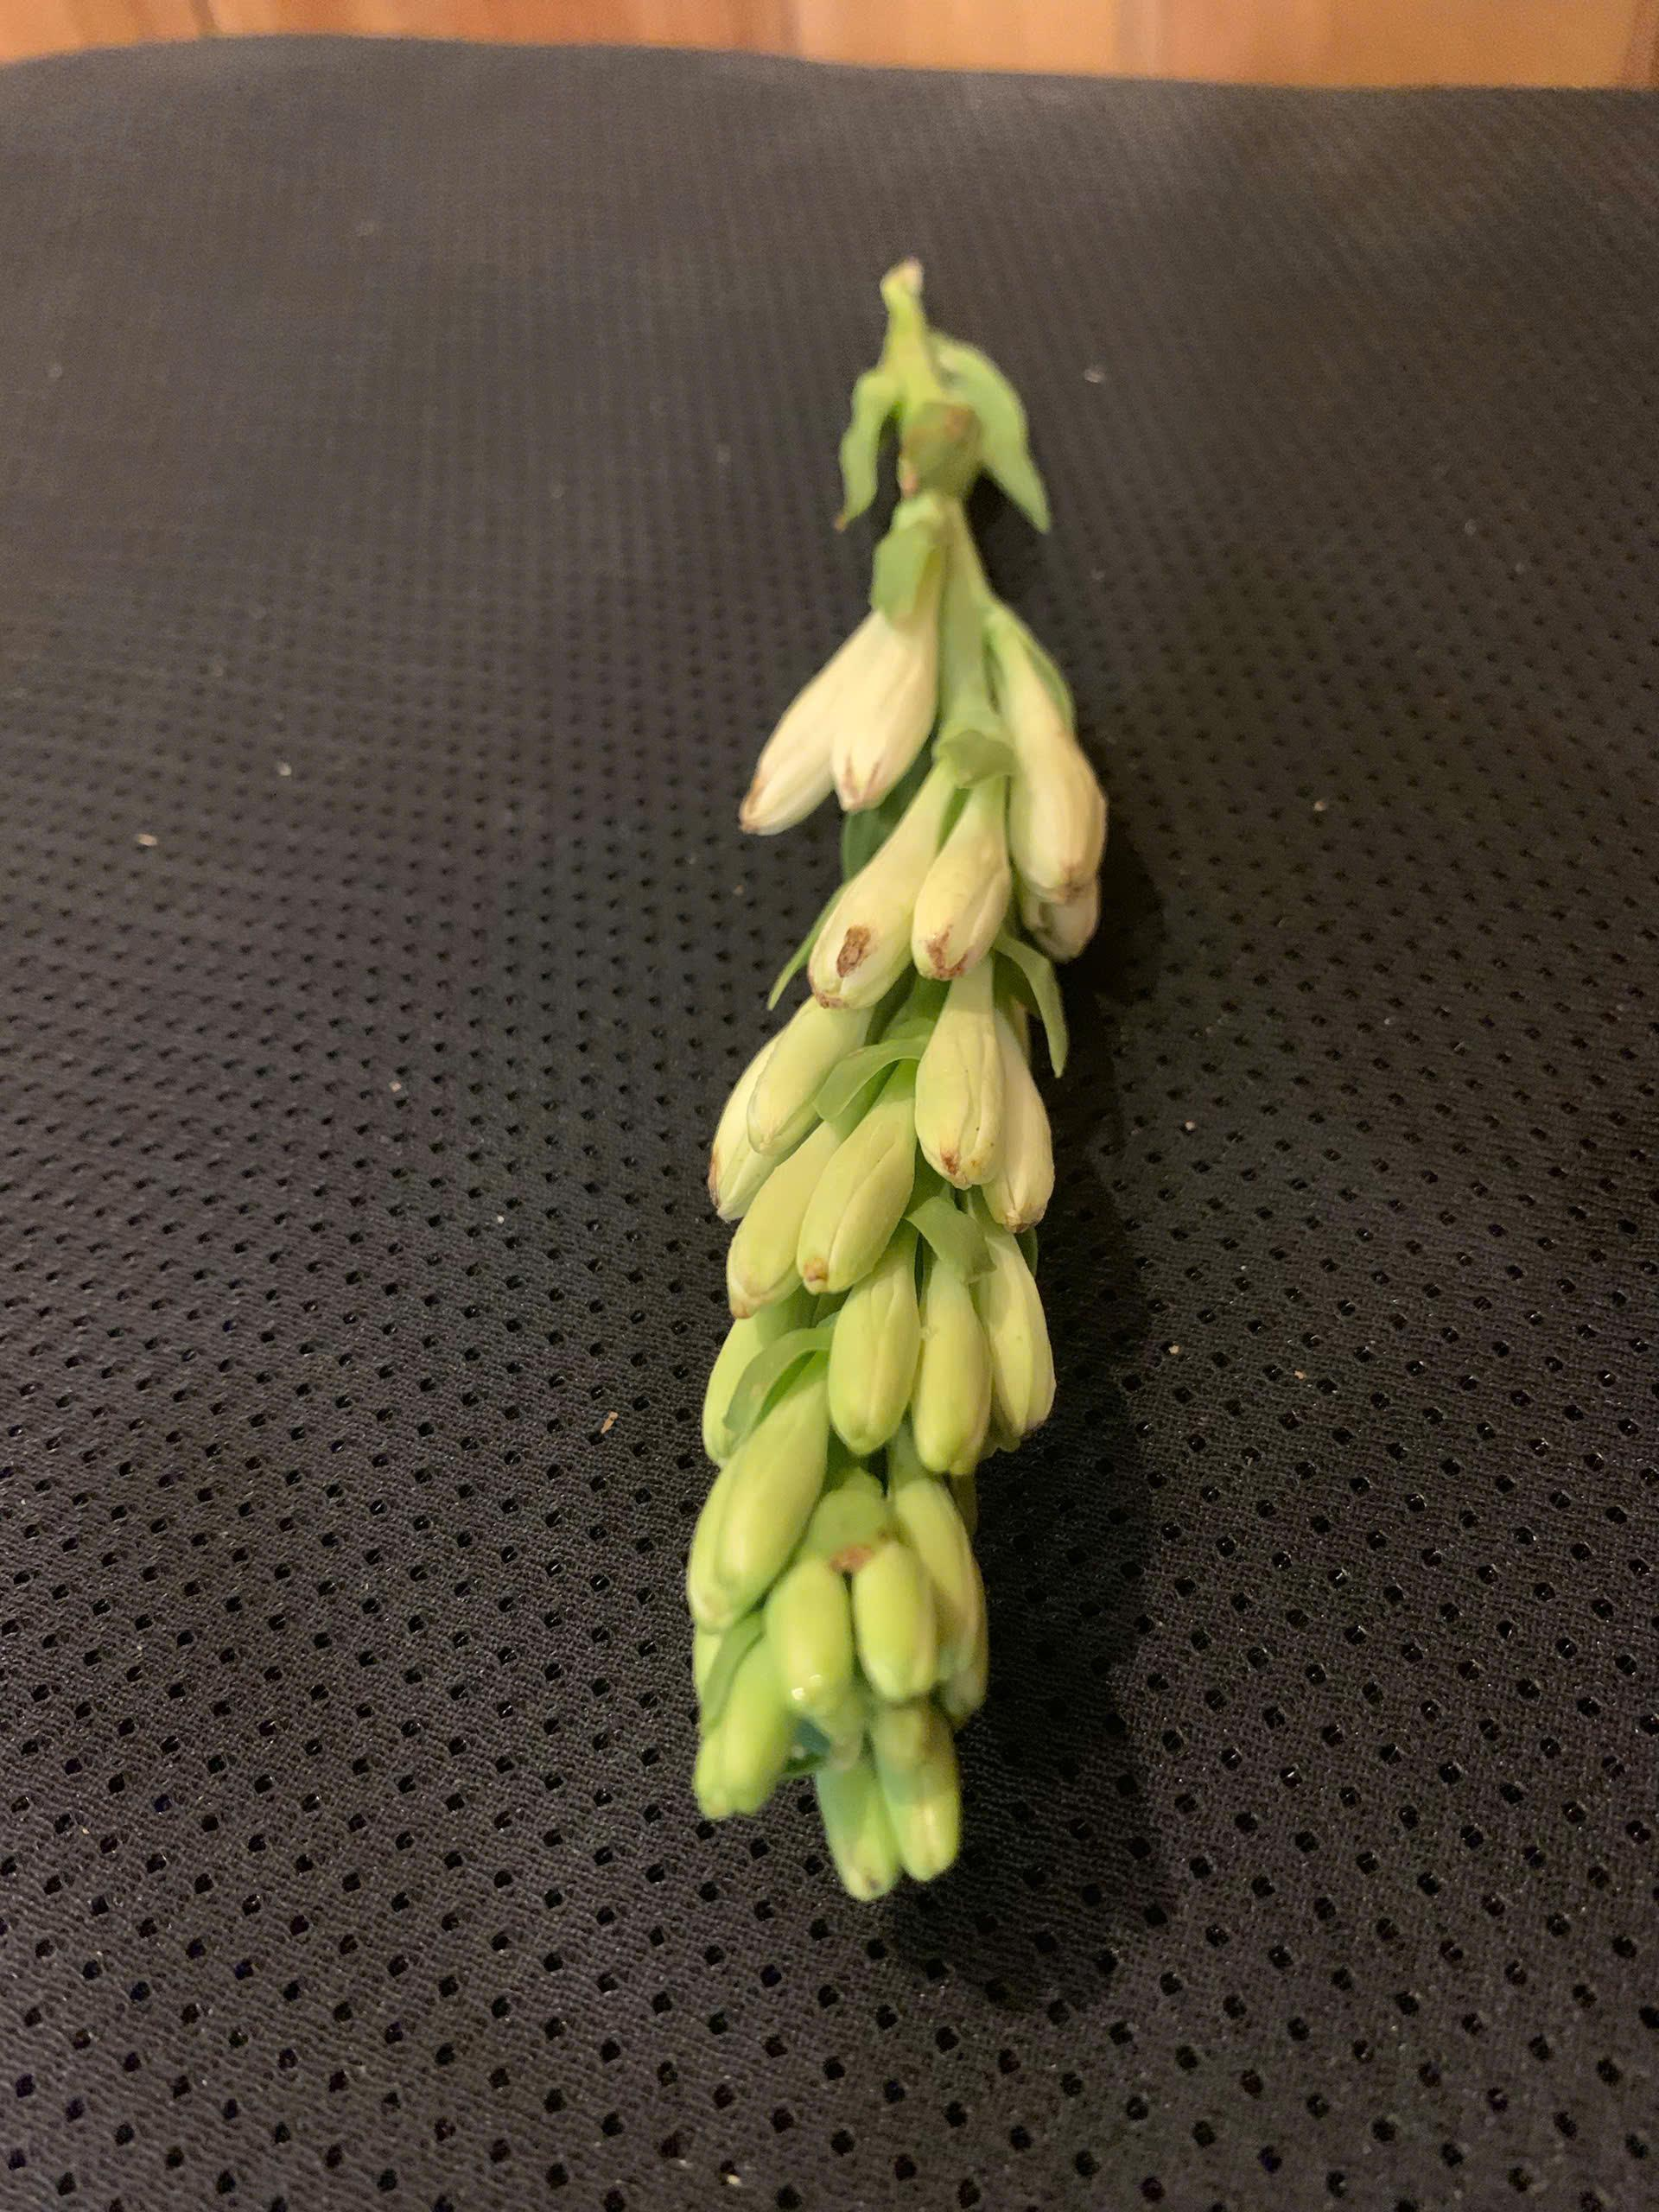Huu co: (700, 269, 1106, 1895)
